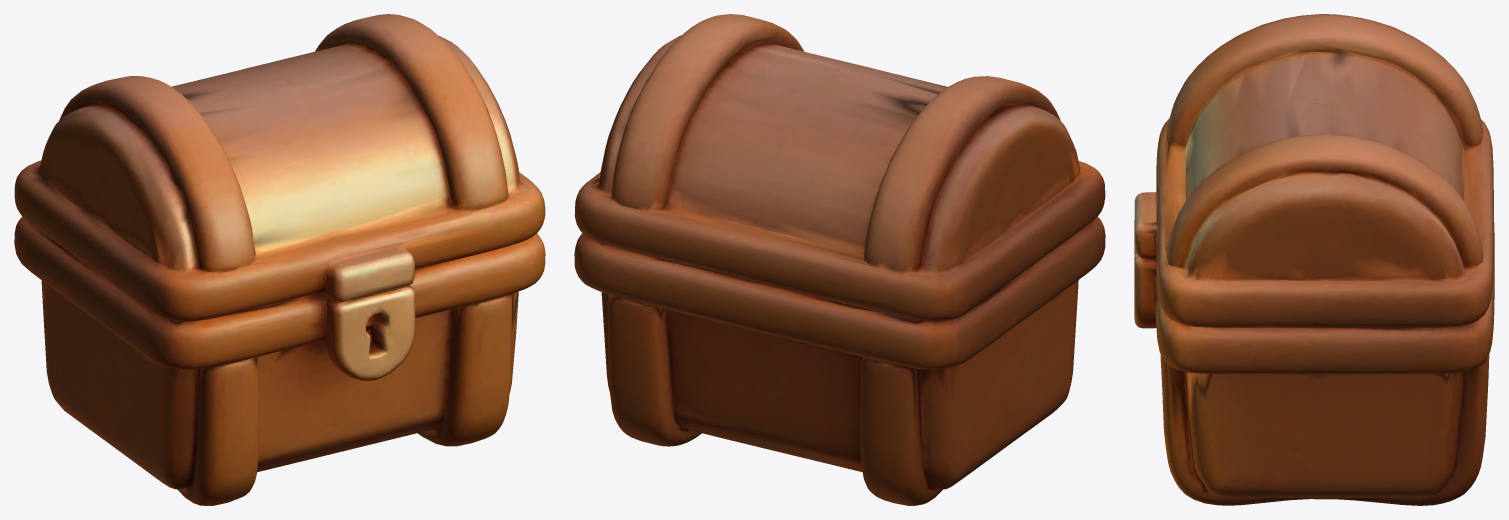
File: box-bronze.glb
The picture shows the model from 3 angles, left to right: view 1: azimuth 30°, elevation 25°; view 2: azimuth 150°, elevation 25°; view 3: azimuth 270°, elevation 25°; orthographic projection. The views are drawn at different scales.
Parts seen in each view (by area): view 1: tripo_node_f2e74d59-f8ca-4ef1-b946-eb0d9a095499; view 2: tripo_node_f2e74d59-f8ca-4ef1-b946-eb0d9a095499; view 3: tripo_node_f2e74d59-f8ca-4ef1-b946-eb0d9a095499.
Boxes of the visible parts, left/top/right/bottom form: tripo_node_f2e74d59-f8ca-4ef1-b946-eb0d9a095499: left=14, top=14, right=545, bottom=505; tripo_node_f2e74d59-f8ca-4ef1-b946-eb0d9a095499: left=574, top=14, right=1105, bottom=505; tripo_node_f2e74d59-f8ca-4ef1-b946-eb0d9a095499: left=1134, top=14, right=1494, bottom=505.
Bounding box in the file's own units: 1 × 0.9099 × 0.8208.
1 material, 1 textured.
